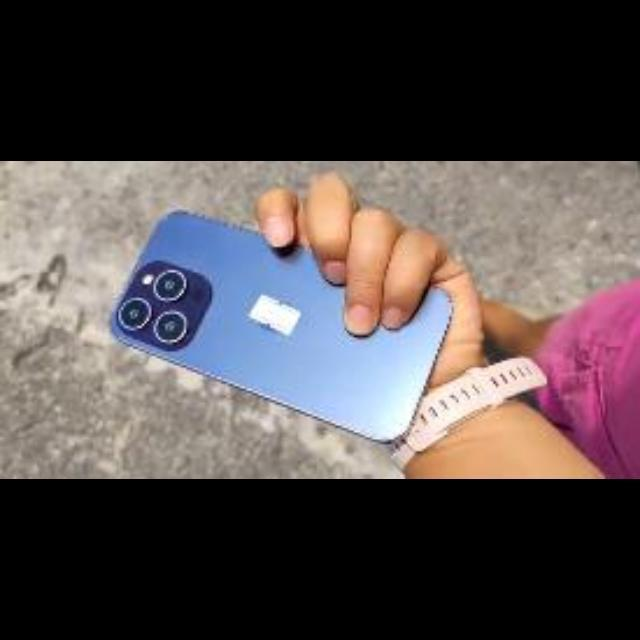PhoneUse: (111, 210, 453, 442)
